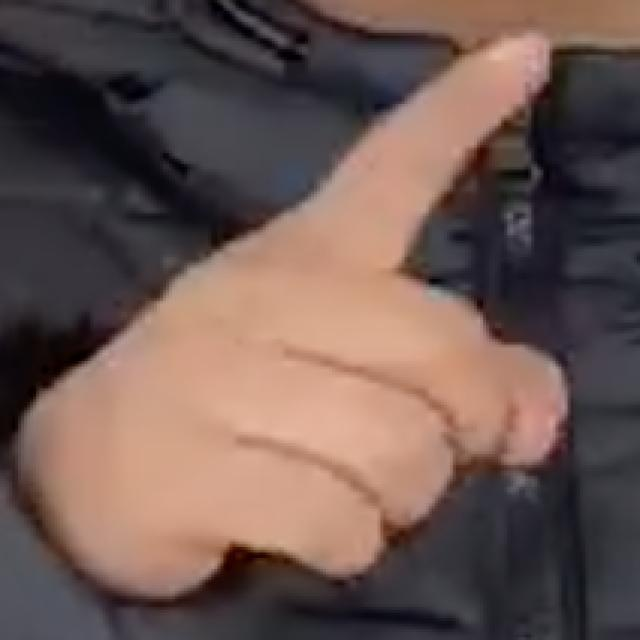Z: (31, 21, 587, 604)
